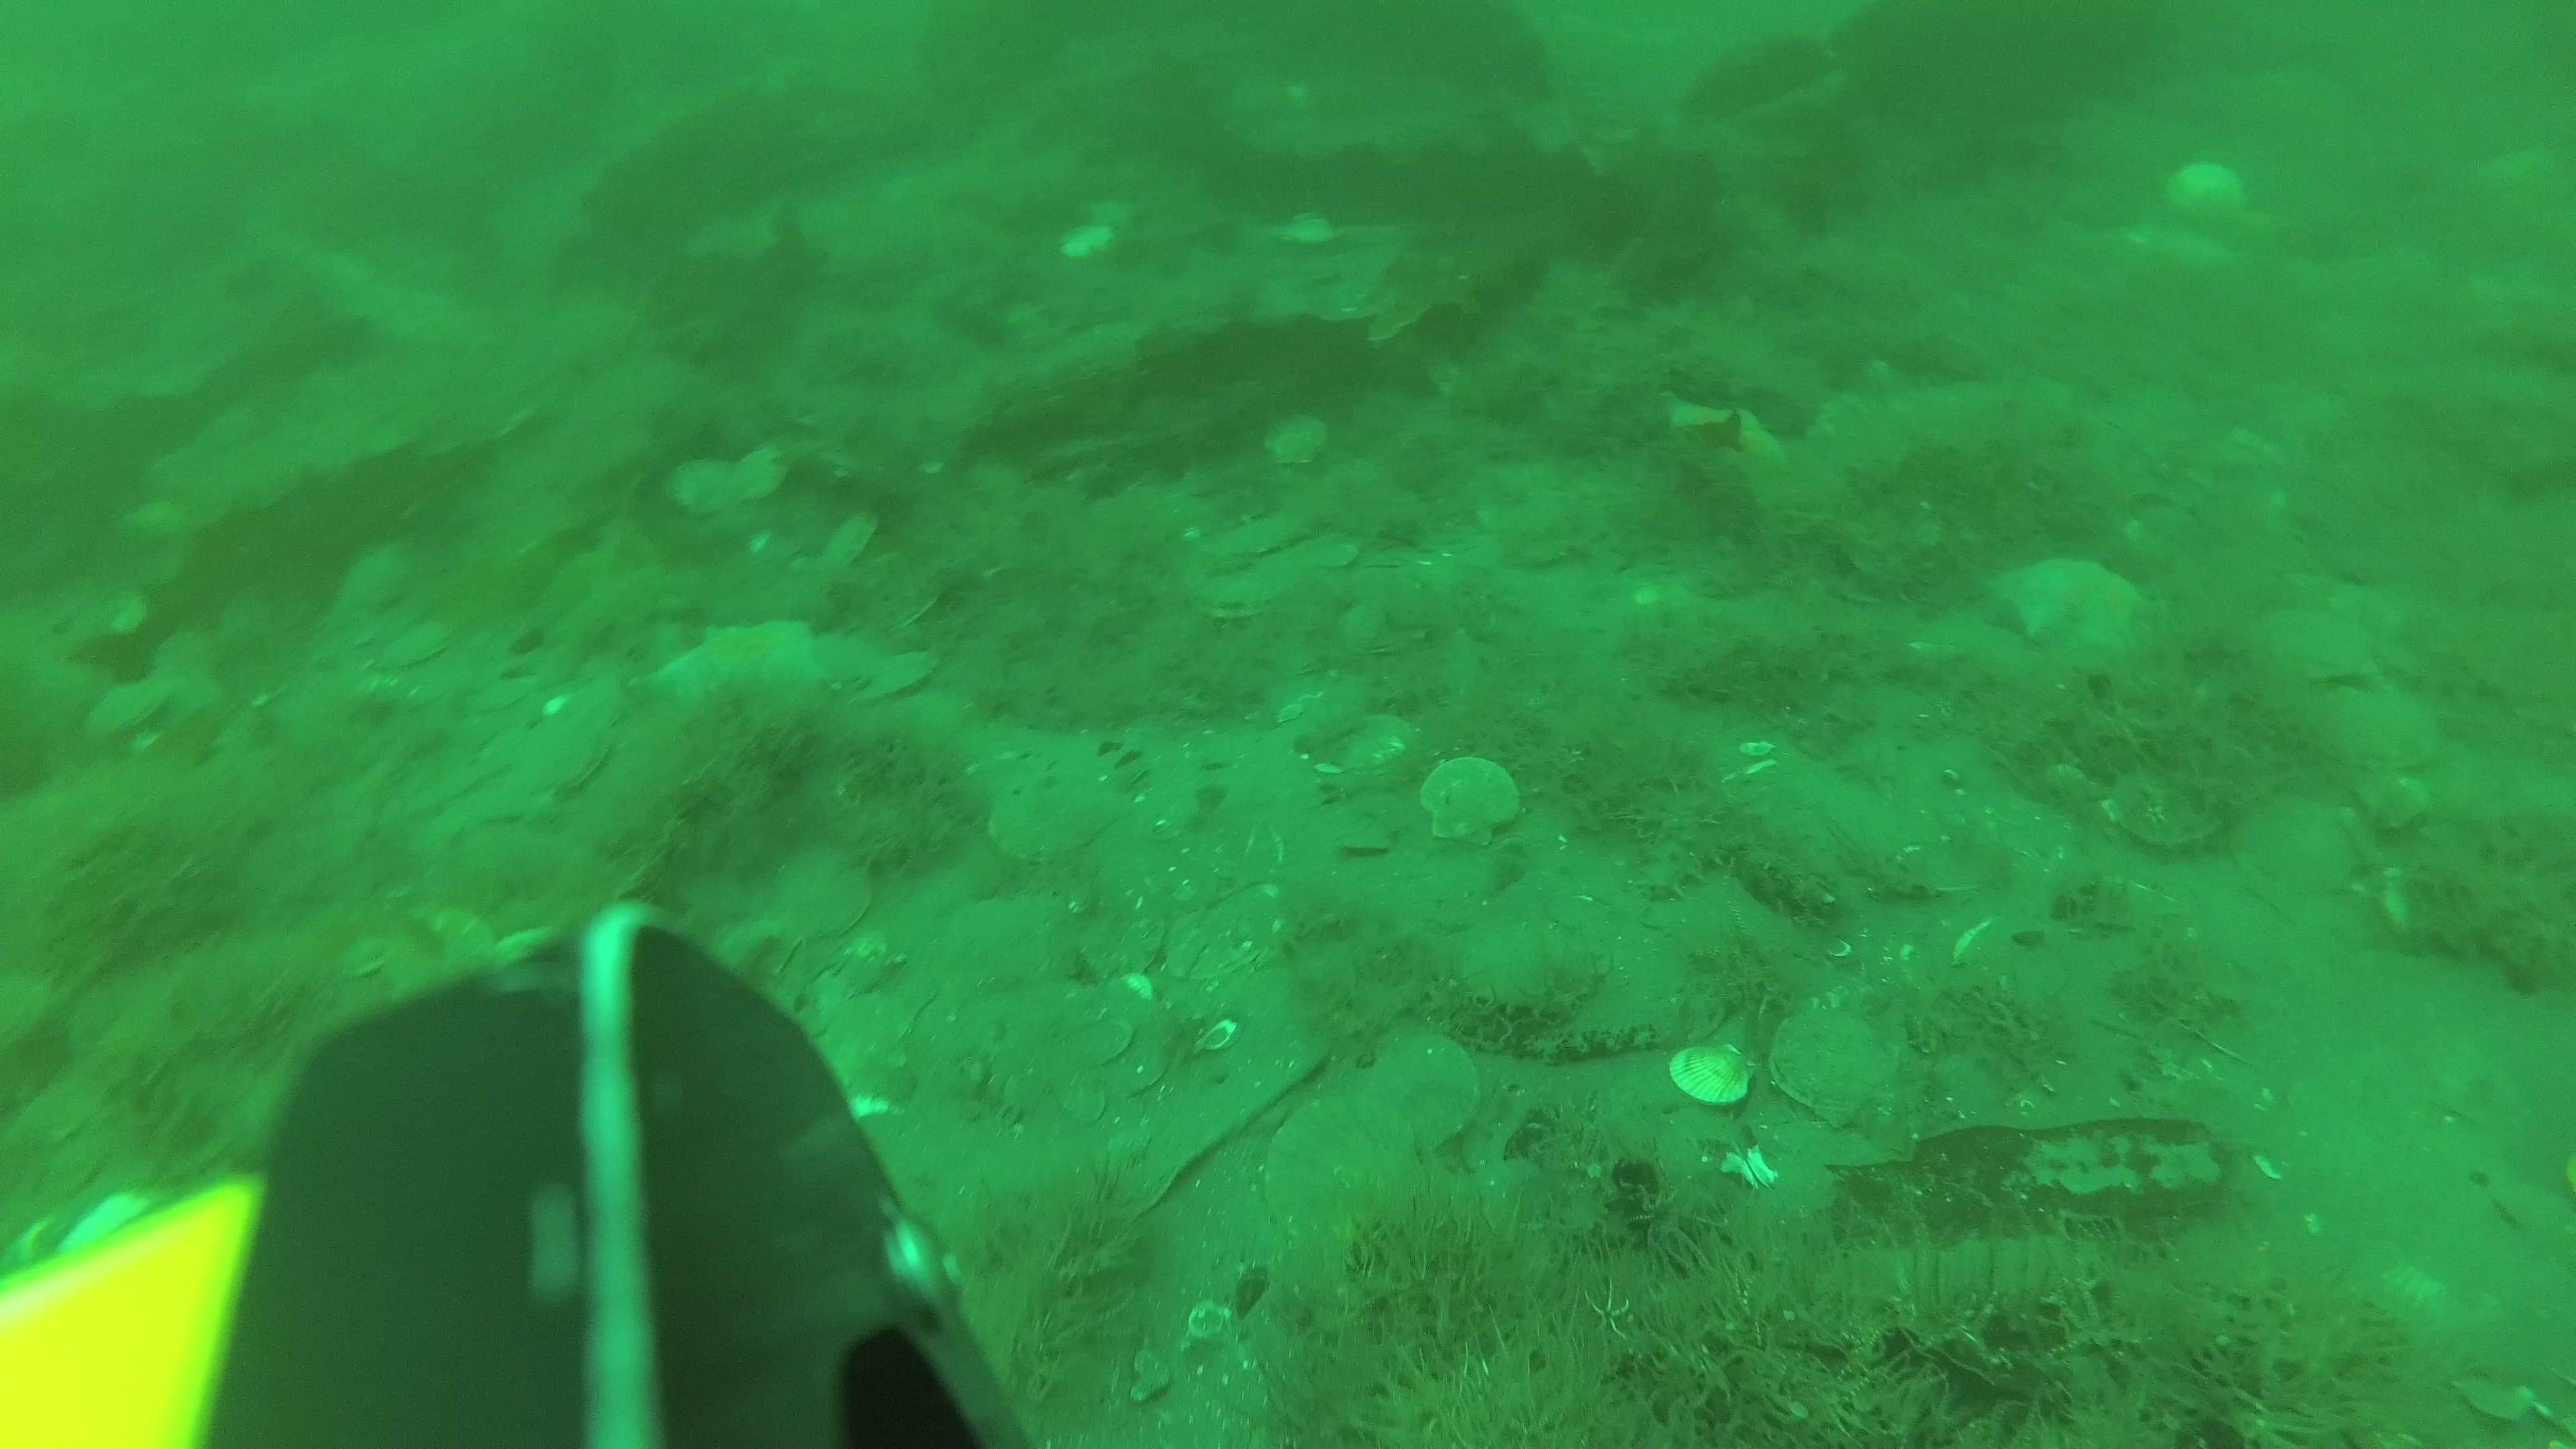holothurian: (1629, 810, 1741, 902)
scallop: (1254, 1086, 1430, 1254), (2233, 786, 2381, 918), (1767, 998, 1900, 1127), (1467, 904, 1605, 1019), (1362, 1030, 1491, 1145), (366, 897, 502, 996), (761, 846, 888, 947), (975, 777, 1111, 869), (2102, 761, 2236, 853), (2259, 602, 2388, 697), (2102, 761, 2227, 849), (1157, 901, 1276, 993), (2321, 686, 2445, 771), (1417, 759, 1529, 849), (508, 704, 614, 796), (1336, 589, 1444, 663), (1668, 1033, 1764, 1116), (1322, 706, 1424, 778), (2160, 147, 2254, 221), (853, 639, 943, 713), (80, 676, 173, 745), (660, 451, 747, 520), (729, 437, 791, 508), (1230, 511, 1318, 559), (1258, 410, 1330, 467), (382, 621, 456, 674), (824, 506, 883, 570), (1205, 582, 1283, 628)
starfish: (649, 614, 832, 717), (1990, 543, 2151, 655)
